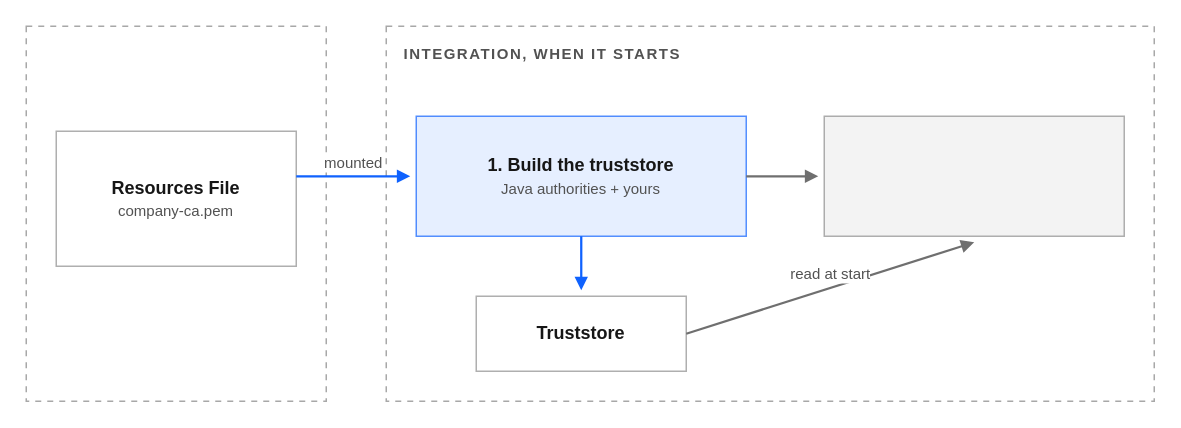
Some shapes in this 1181 by 428 pixel diagram are drawn without their labels. Here are the shapes that lost their labels. From the top down, the box of each, then its label:
(823, 115, 1124, 236): 2. Integration runs
(25, 25, 326, 401): SECRETS & CONFIGURATION
